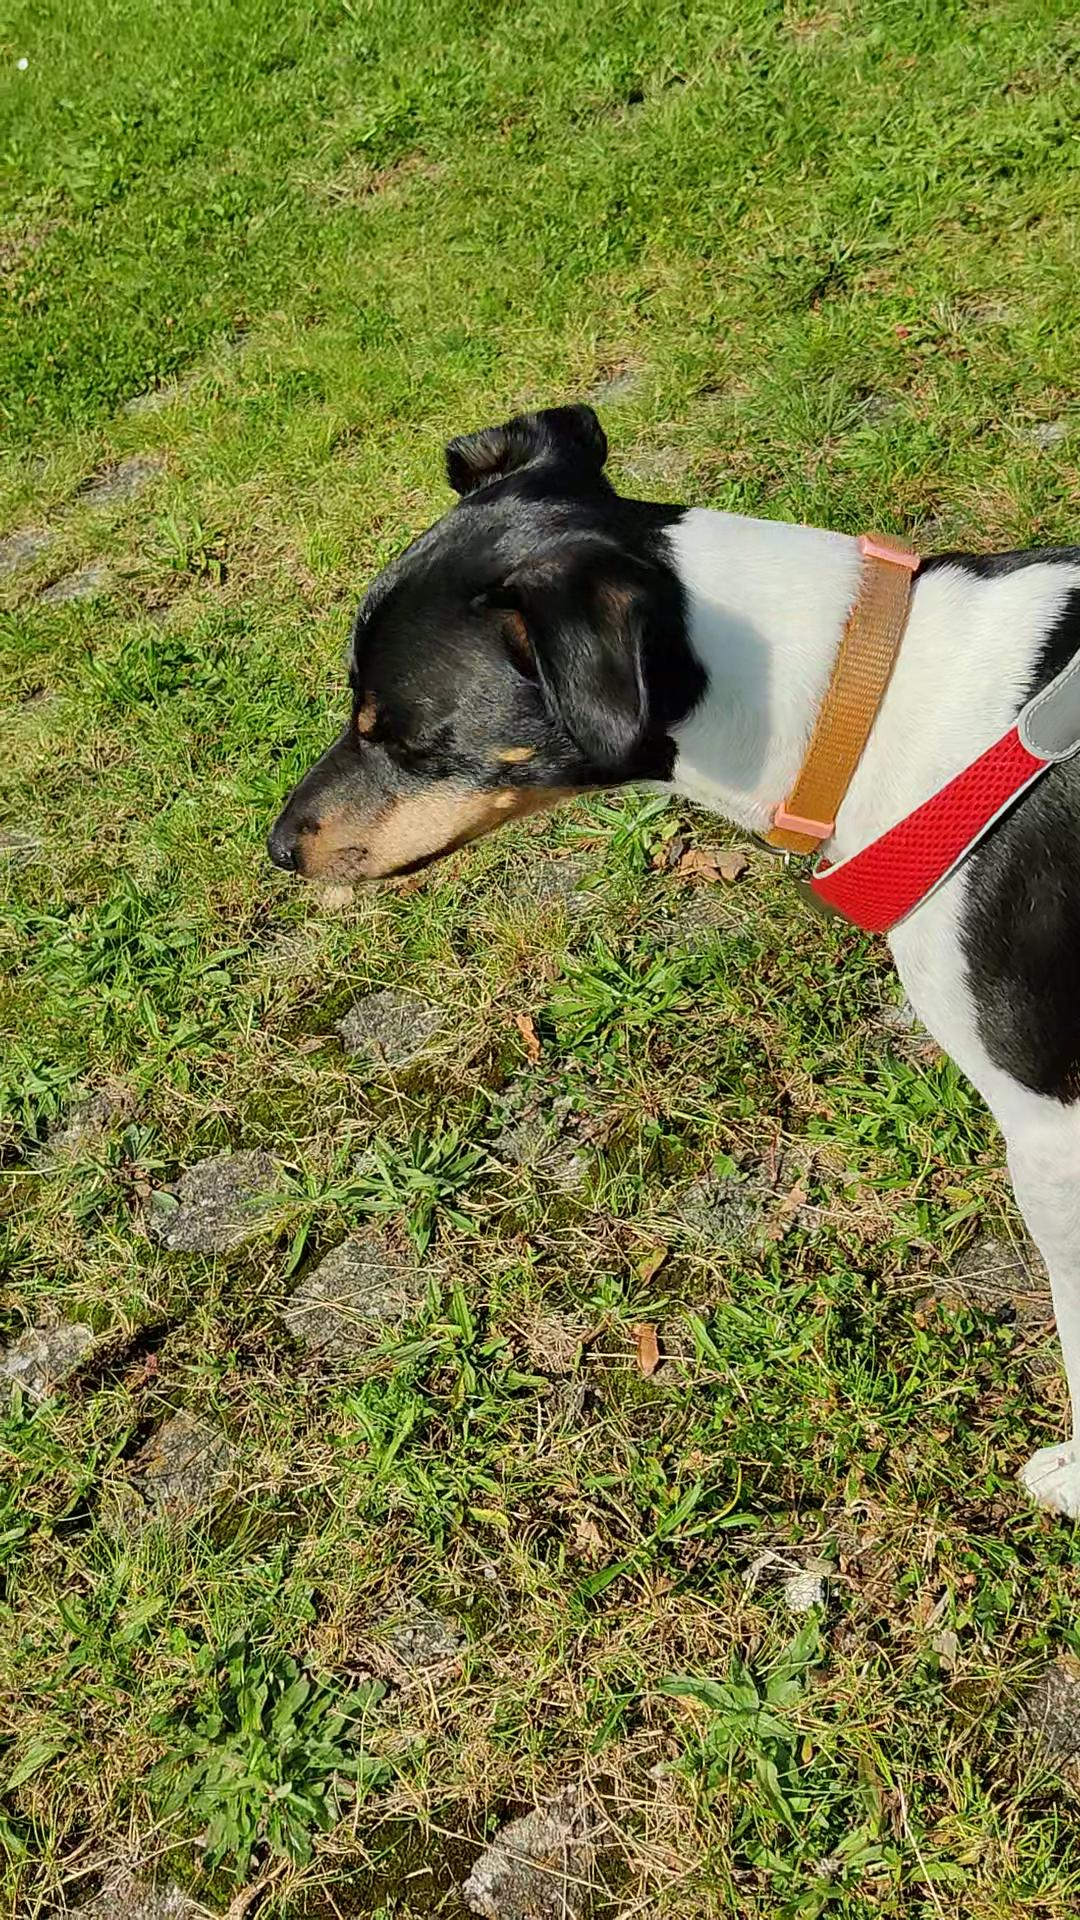Dog: (247, 384, 1079, 1538)
